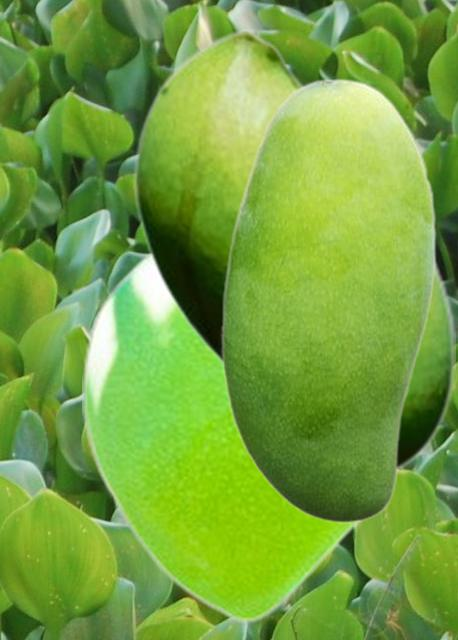green_mango: (132, 27, 454, 475), (82, 250, 404, 623), (220, 77, 436, 523)
